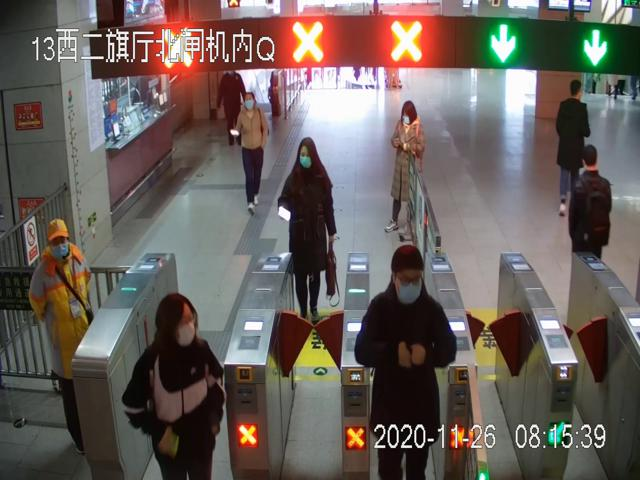person: (355, 245, 456, 478), (29, 216, 100, 457), (281, 136, 339, 328), (385, 98, 426, 239), (556, 77, 590, 219), (233, 91, 269, 214)
